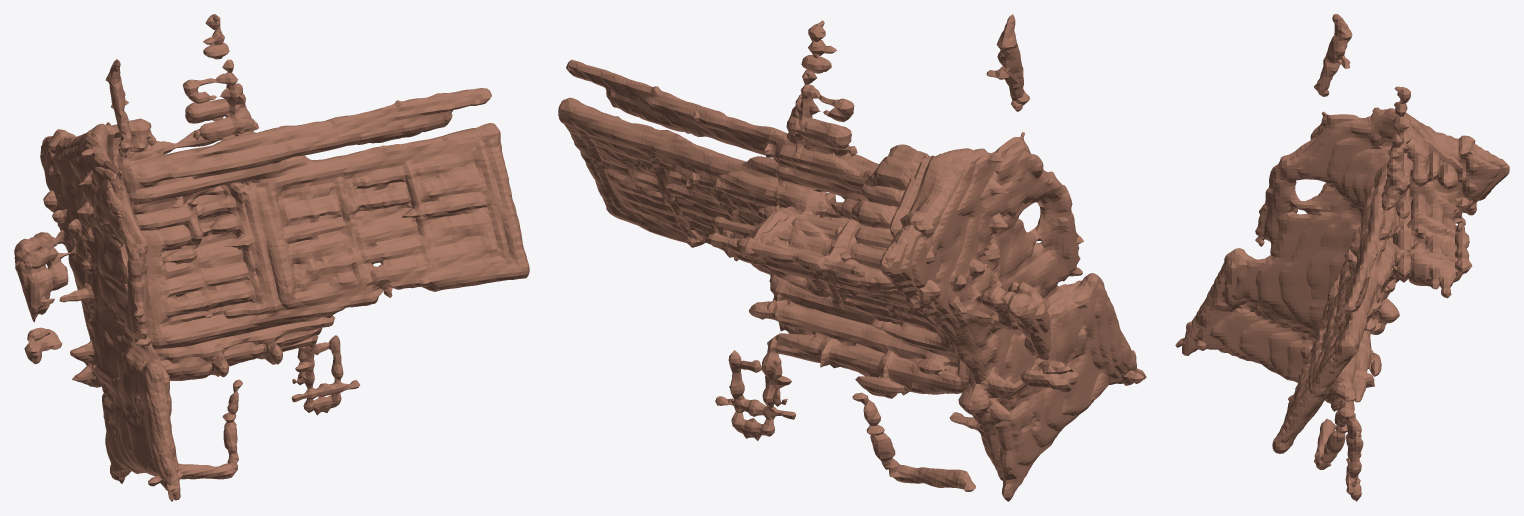
Rendered from raw.glb.
3 renders of one model, left to right at view 1: azimuth 30°, elevation 25°; view 2: azimuth 150°, elevation 25°; view 3: azimuth 270°, elevation 25°, orthographic. The views are drawn at different scales.
Visible parts, largest first — view 1: world; view 2: world; view 3: world.
Boxes of the visible parts, <box> form: world: <box>14,14,529,501</box>; world: <box>558,14,1146,501</box>; world: <box>1175,14,1509,501</box>.
Size of the model in its own units: 0.74 by 0.6713 by 0.4983.
